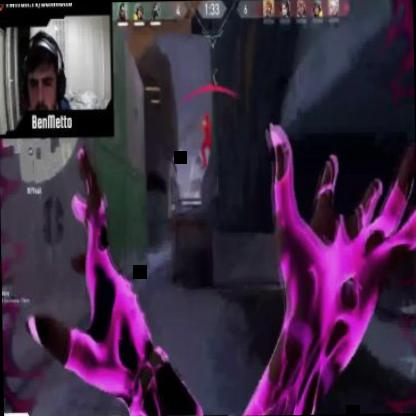enemy: (200, 110, 216, 168)
enemy_head: (204, 112, 210, 121)
